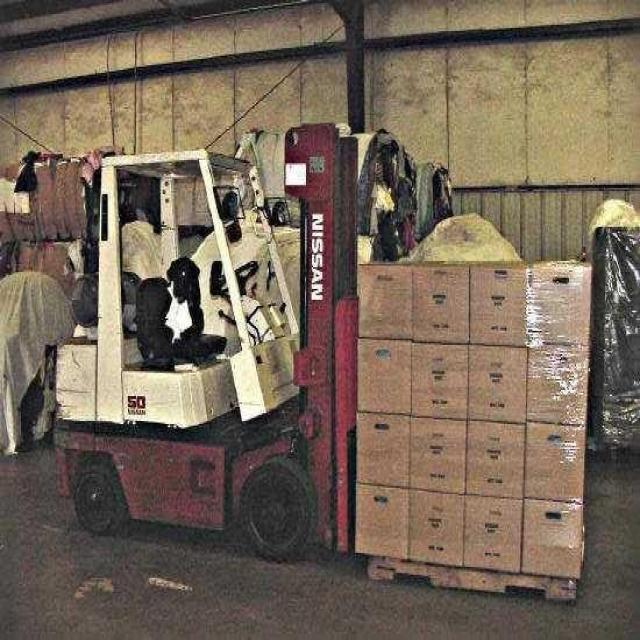forklift: (57, 126, 359, 572)
